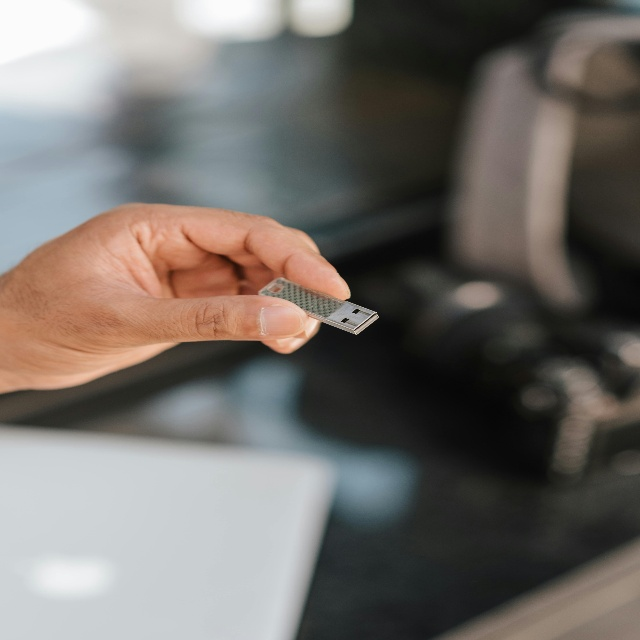Sin_guantes: (0, 193, 351, 411)
